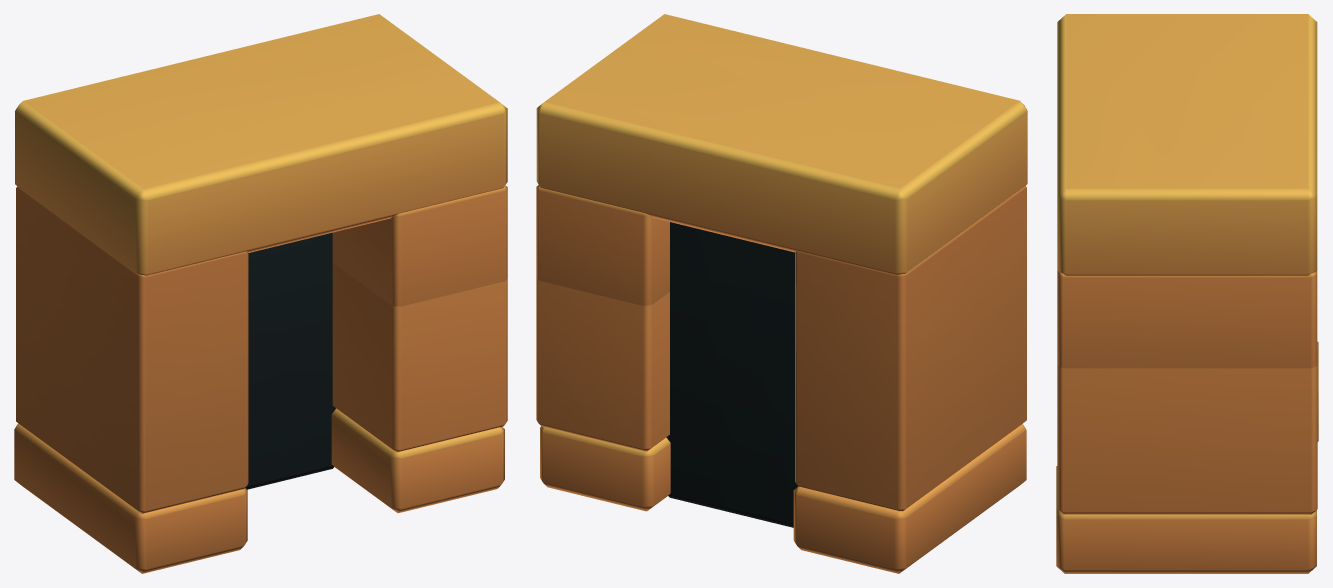
File: entrance_7.fbx
3 views of the same model, side by side, from view 1: azimuth 30°, elevation 25°; view 2: azimuth 150°, elevation 25°; view 3: azimuth 270°, elevation 25° (orthographic).
Visible parts, largest first — view 1: entrance_7; view 2: entrance_7; view 3: entrance_7.
Part boxes in pixels (x1,y1,x2,y2): entrance_7: [14, 14, 507, 573]; entrance_7: [536, 14, 1027, 573]; entrance_7: [1056, 14, 1318, 573].
Size of the model in its own units: 256 by 254 by 156.
